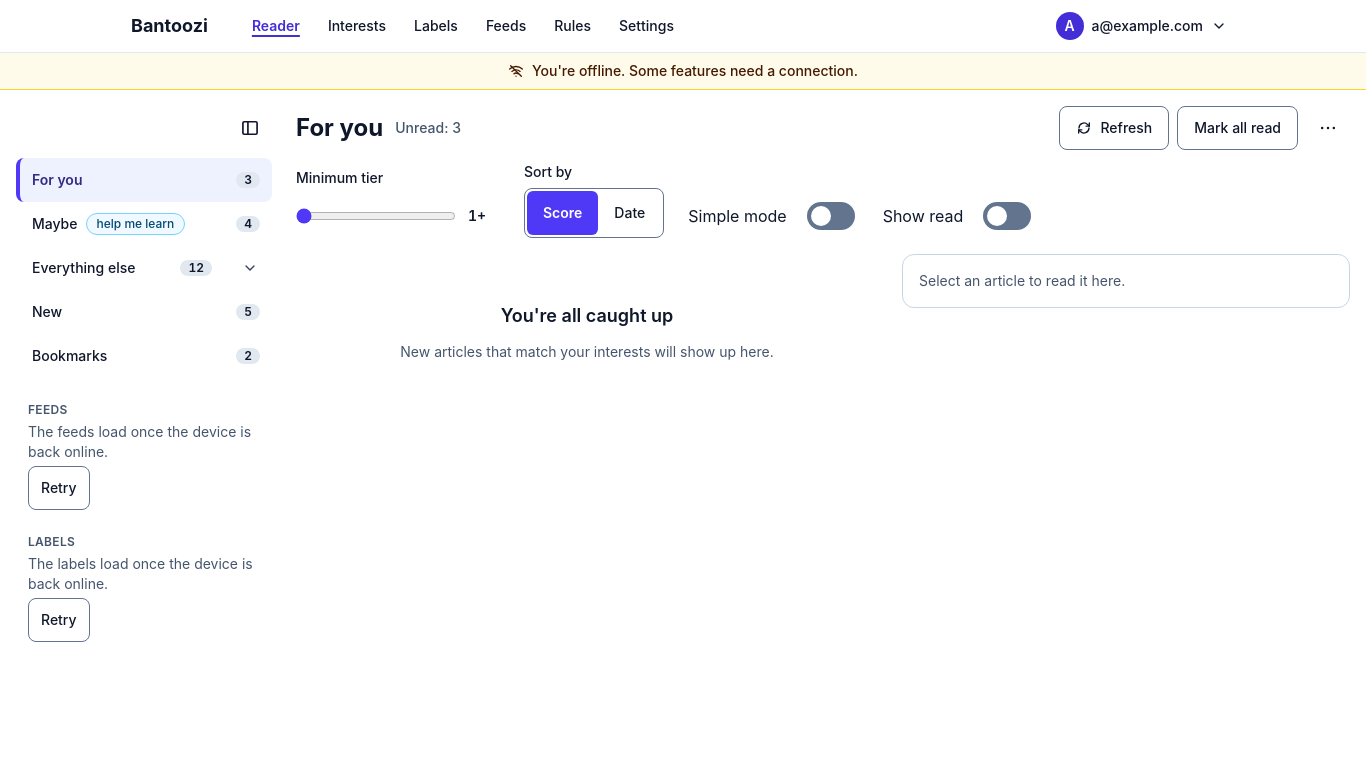
Test: the reader sidebar without a connection › loads the feeds and the labels when Retry is pressed and they can be reached
The width and height of the screenshot is (1366, 768).
Click the button with aria-label "Retry loading feeds".
click(59, 488)  # box x1=28 y1=466 x2=90 y2=510
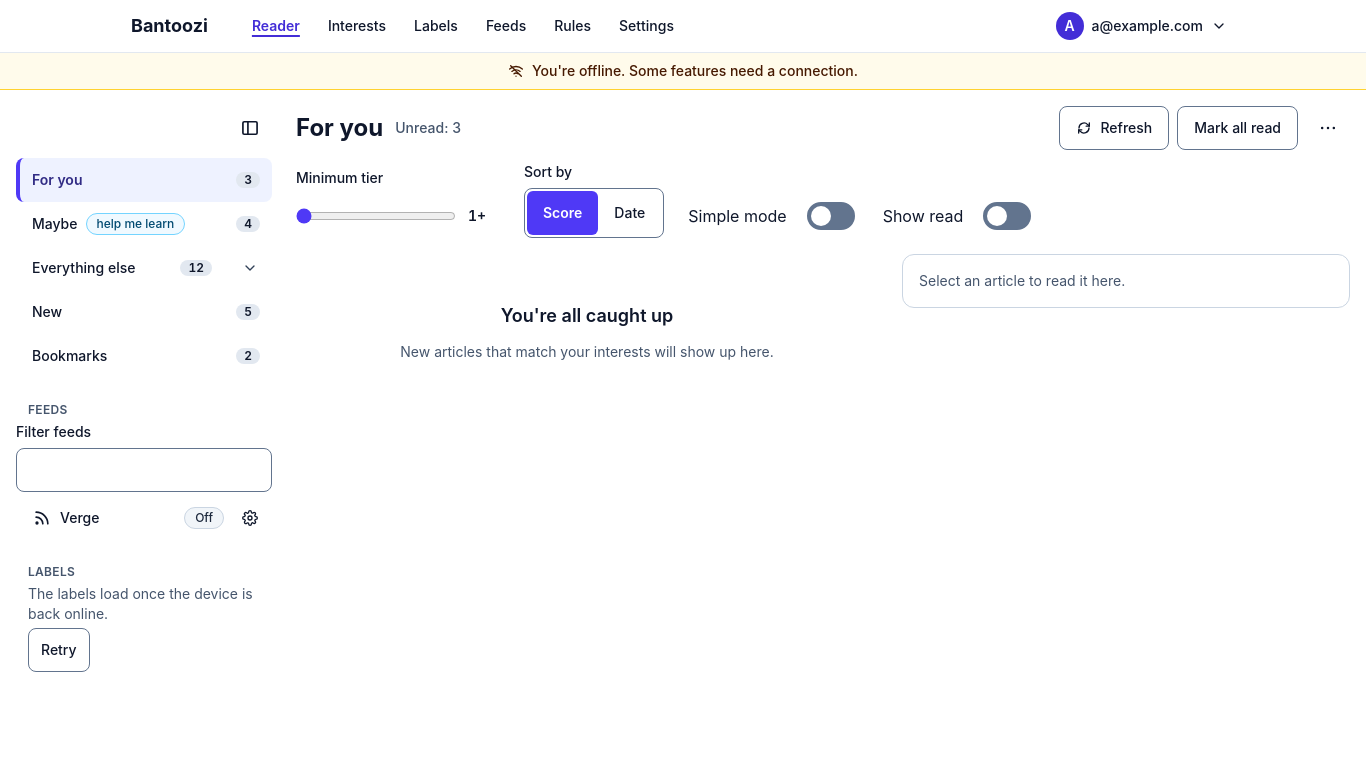
Click the button with aria-label "Retry loading labels".
click(59, 650)  # box x1=28 y1=628 x2=90 y2=672
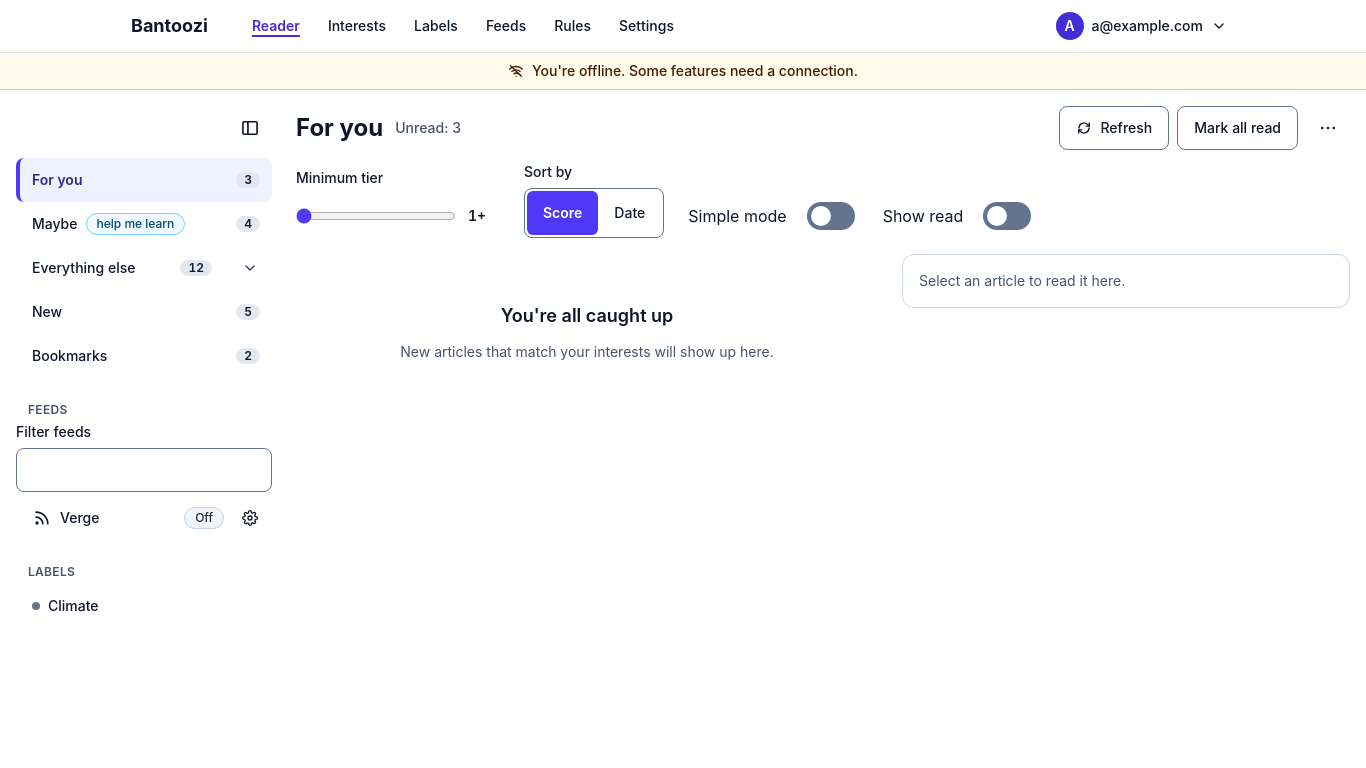
Check: the link "Verge" is shown, box x1=32 y1=508 x2=99 y2=528
Check: the link "Climate" is shown, box x1=32 y1=597 x2=99 y2=614
